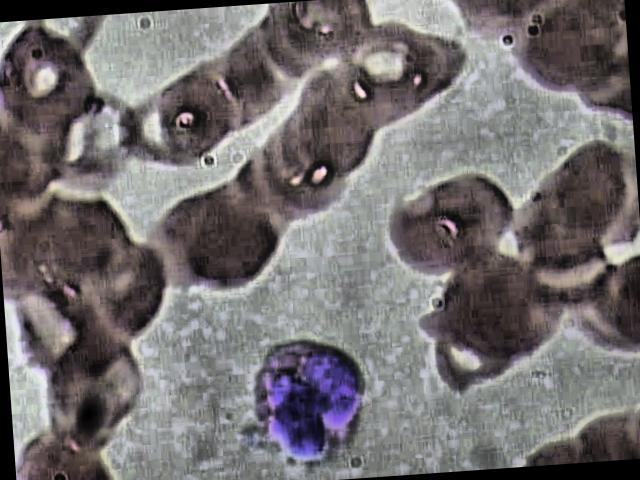Platelets: (236, 424, 262, 450)
WBC: (242, 328, 378, 474)
